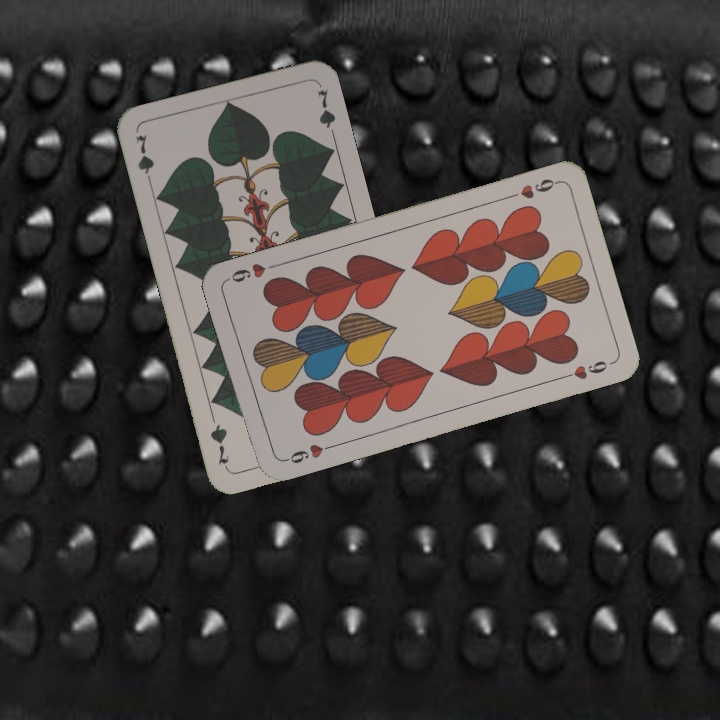G7: (131, 130, 157, 189)
H9: (503, 174, 561, 202), (279, 440, 337, 466)
